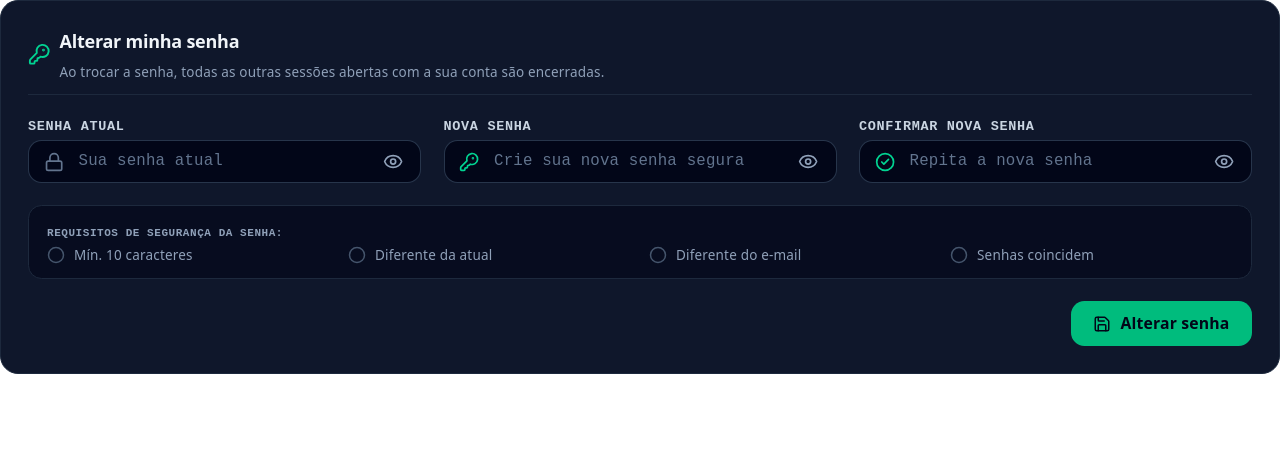
Test: AlterarSenha › troca a senha, limpa os campos e confirma o sucesso
Type "senha-antiga-123" into the password field labelled "Senha atual" at coordinates (224, 162), box [28,140,421,183]
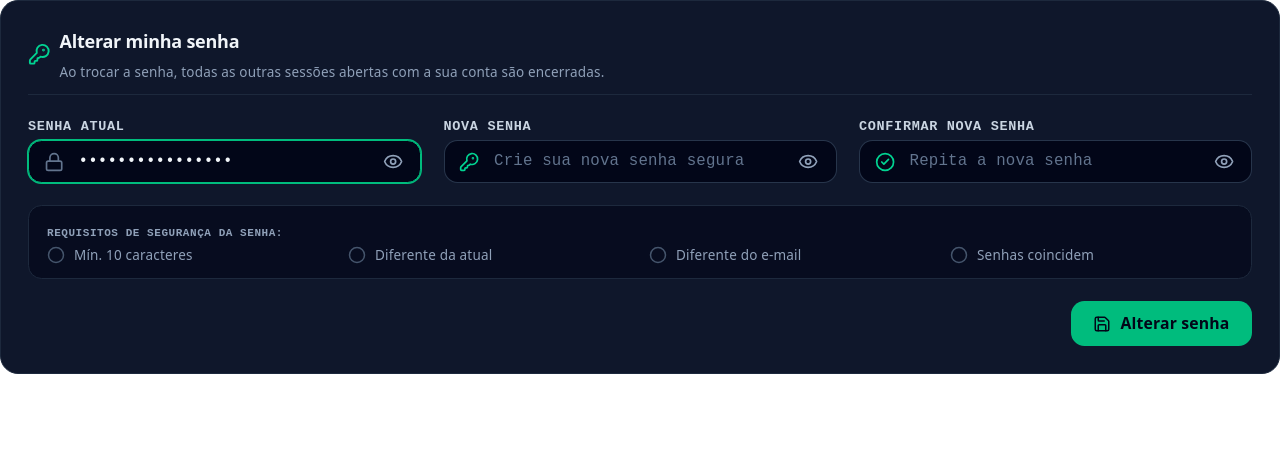
Type "nova-senha-segura" into the password field labelled "Nova senha" at coordinates (640, 162), box [444,140,836,183]
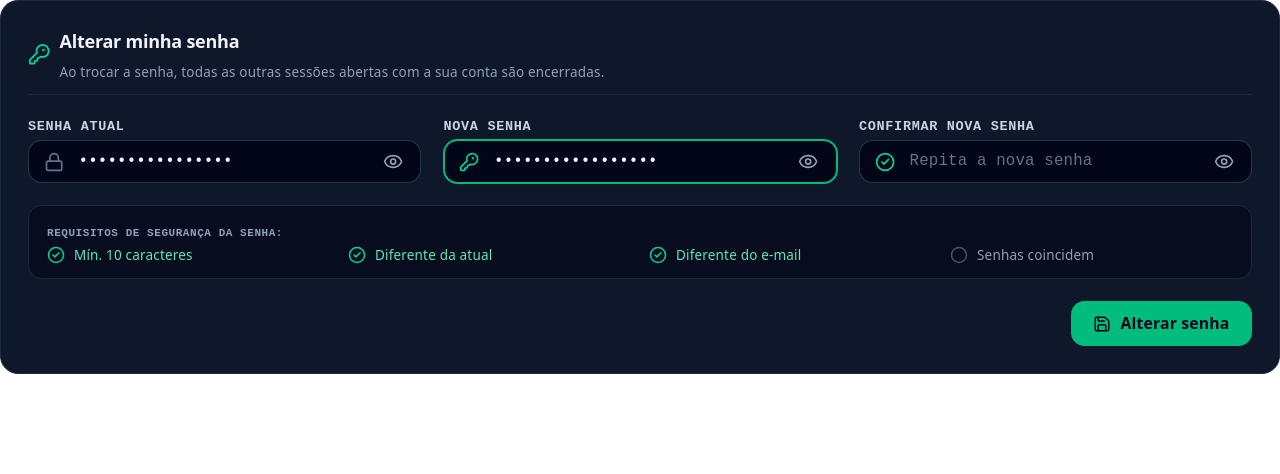
Type "nova-senha-segura" into the password field labelled "Confirmar nova senha" at coordinates (1056, 162), box [859,140,1252,183]
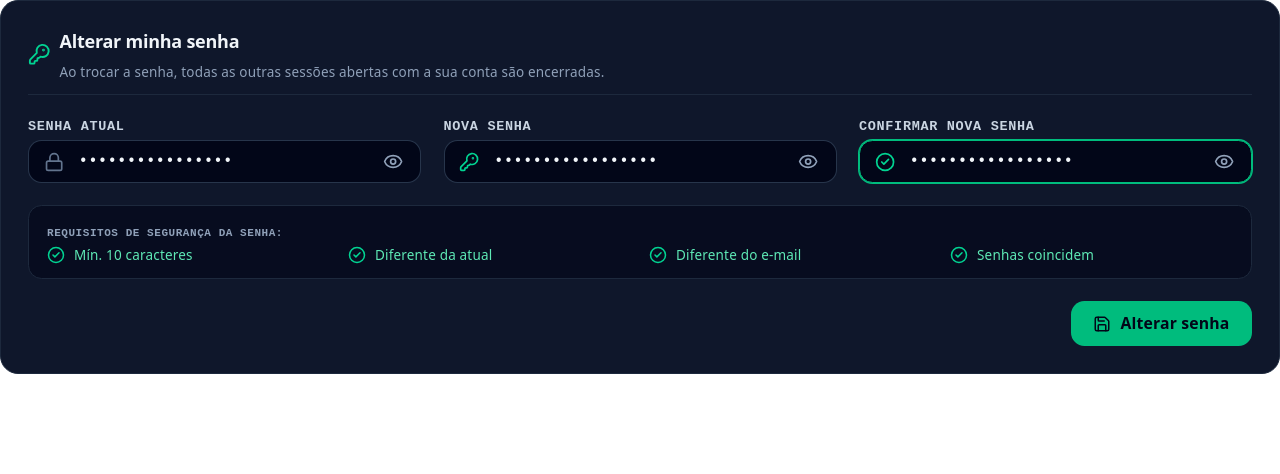
Click the button "Alterar senha" at coordinates (1161, 324), box [1071,301,1252,346]
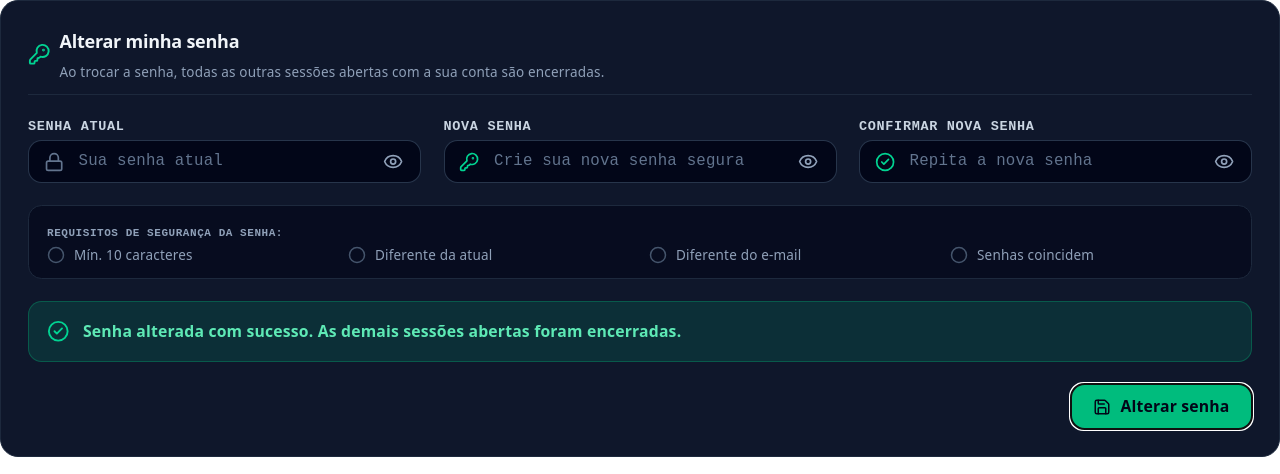
Result: the message reads "Senha alterada com sucesso. As demais sessões abertas foram encerradas." at [83,320,681,342]
Result: the password field labelled "Senha atual" is empty at [28,140,421,183]
Result: the password field labelled "Nova senha" is empty at [444,140,836,183]
